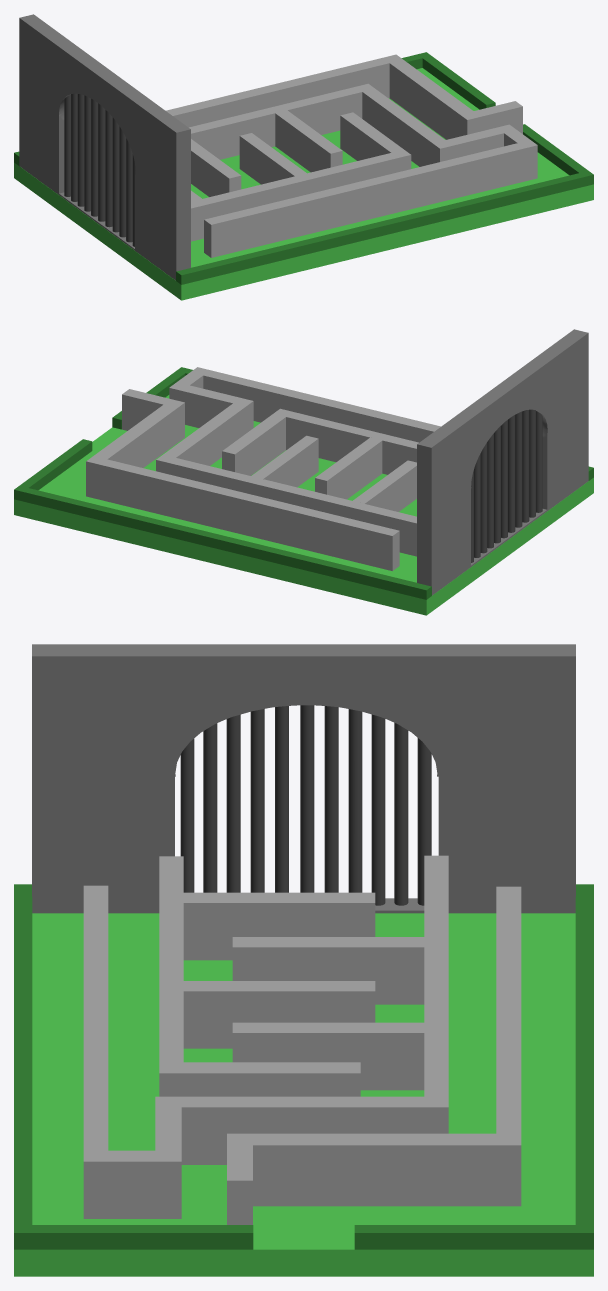
3 renders of one model, top to bottom at view 1: azimuth 30°, elevation 25°; view 2: azimuth 150°, elevation 25°; view 3: azimuth 270°, elevation 25°, orthographic. The views are drawn at different scales.
Visible parts, largest first — view 1: pCube11, pCube7, pCube6, pCube8, pasted__pCube11 (×2), pasted__pasted__pasted__pCylinder2 (×5), pasted__pasted__pCube11 (×2), pasted__pasted__pCylinder2 (×4), pasted__pCylinder2; view 2: pCube7, pCube6, pCube8, pCube11, pasted__pCube11 (×2), pasted__pasted__pCube11 (×2), pasted__pasted__pasted__pCylinder2 (×5), pasted__pasted__pCylinder2 (×4), pasted__pCylinder2; view 3: pCube7, pCube6, pCube11, pCube8, pasted__pCube11 (×2), pasted__pasted__pCube11 (×2), pasted__pasted__pasted__pCylinder2 (×6), pasted__pasted__pCylinder2 (×4), pasted__pasted__pasted__pCube11, pasted__pCylinder2.
Boxes of the visible parts, x1,y1,x2,y2 form: pCube11: (189,83,537,257); pCube7: (14,52,593,300); pCube6: (19,14,190,280); pCube8: (166,54,522,139); pasted__pCube11 (×2): (191,110,411,241); pasted__pasted__pasted__pCylinder2 (×5): (64,94,125,237); pasted__pasted__pCube11 (×2): (191,133,306,196); pasted__pasted__pCylinder2 (×4): (84,95,132,242); pasted__pCylinder2: (71,93,77,201); pCube7: (14,367,593,615); pCube6: (417,329,588,595); pCube8: (86,389,399,570); pCube11: (156,367,440,556); pasted__pCube11 (×2): (222,408,418,487); pasted__pasted__pCube11 (×2): (315,437,416,511); pasted__pasted__pasted__pCylinder2 (×5): (480,410,542,553); pasted__pasted__pCylinder2 (×4): (487,409,535,548); pasted__pCylinder2: (474,454,480,557); pCube7: (14,884,593,1276); pCube6: (32,644,575,913); pCube11: (83,855,448,1218); pCube8: (227,886,521,1224); pasted__pCube11 (×2): (159,856,424,1096); pasted__pasted__pCube11 (×2): (183,937,424,1048); pasted__pasted__pasted__pCylinder2 (×6): (180,706,431,905); pasted__pasted__pCylinder2 (×4): (203,705,362,892); pasted__pasted__pasted__pCube11: (183,892,375,960); pasted__pCylinder2: (394,723,408,905).
Size of the model in its own units: 22.4 by 8.51 by 15.75.
